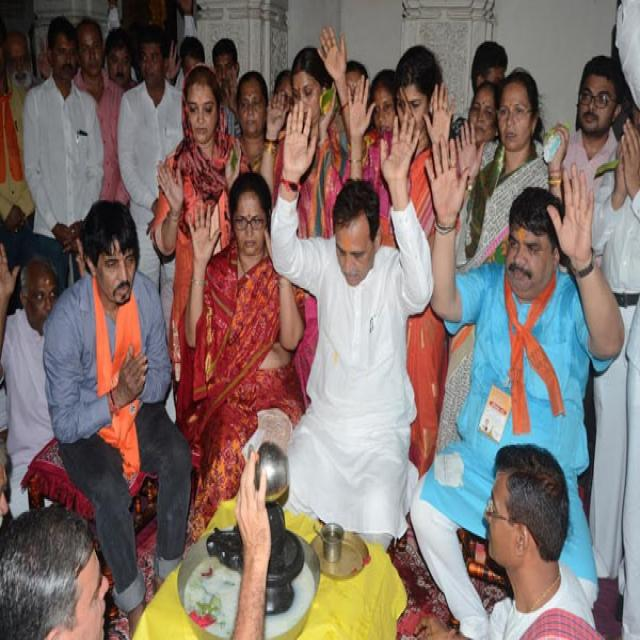body: (408, 126, 632, 638), (267, 101, 435, 547), (38, 194, 195, 638), (174, 168, 312, 557), (344, 42, 456, 480), (453, 62, 573, 442), (150, 62, 252, 460), (410, 440, 610, 638), (270, 38, 358, 416), (588, 96, 637, 582), (22, 13, 106, 296), (116, 27, 185, 344), (0, 446, 109, 640), (316, 22, 400, 250), (0, 246, 62, 526), (559, 52, 627, 210), (71, 15, 126, 206), (614, 297, 640, 638), (228, 446, 271, 638), (0, 77, 34, 296), (226, 68, 277, 185), (340, 61, 395, 128), (449, 78, 500, 149), (3, 30, 46, 91), (211, 35, 241, 122), (616, 0, 640, 99), (104, 26, 138, 91), (168, 32, 207, 83), (469, 38, 510, 85), (120, 3, 168, 35), (269, 70, 293, 125)
